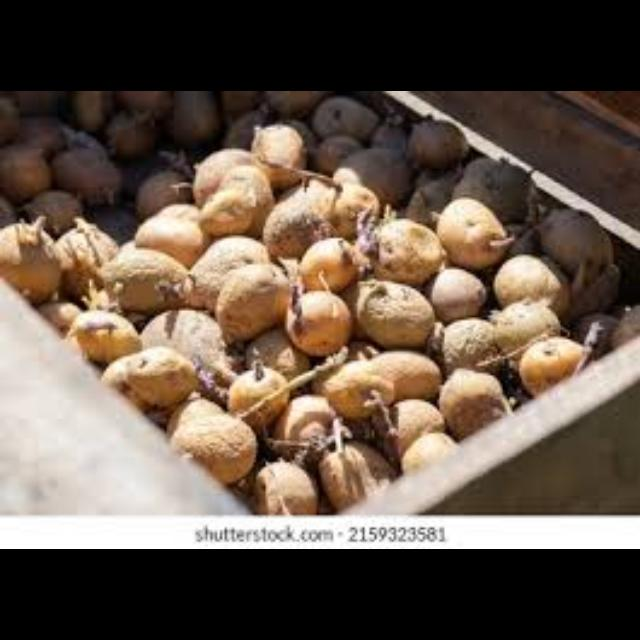Sprouted potato: (252, 156, 382, 260), (74, 230, 190, 310), (342, 259, 438, 349), (195, 342, 292, 422), (422, 297, 514, 378), (274, 269, 358, 357), (46, 202, 120, 300), (525, 198, 615, 278), (354, 204, 448, 280), (44, 122, 130, 205), (318, 357, 404, 439), (504, 324, 600, 396), (63, 289, 145, 371), (452, 148, 538, 220), (171, 167, 269, 229), (484, 292, 564, 366), (399, 102, 478, 176), (442, 368, 518, 440), (134, 140, 210, 212), (437, 192, 515, 262), (0, 214, 58, 304)
